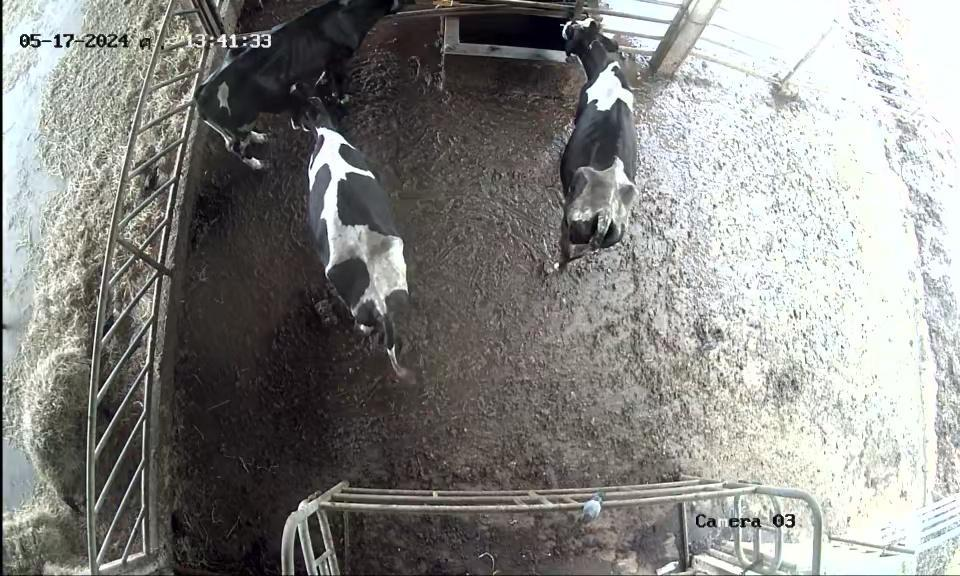drink: (546, 10, 624, 107)
stand: (274, 76, 446, 377), (193, 1, 422, 166)
